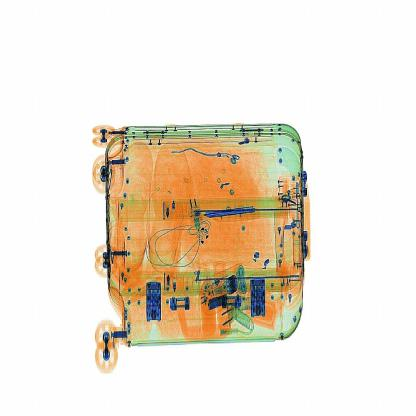pliers: (202, 202, 273, 230)
